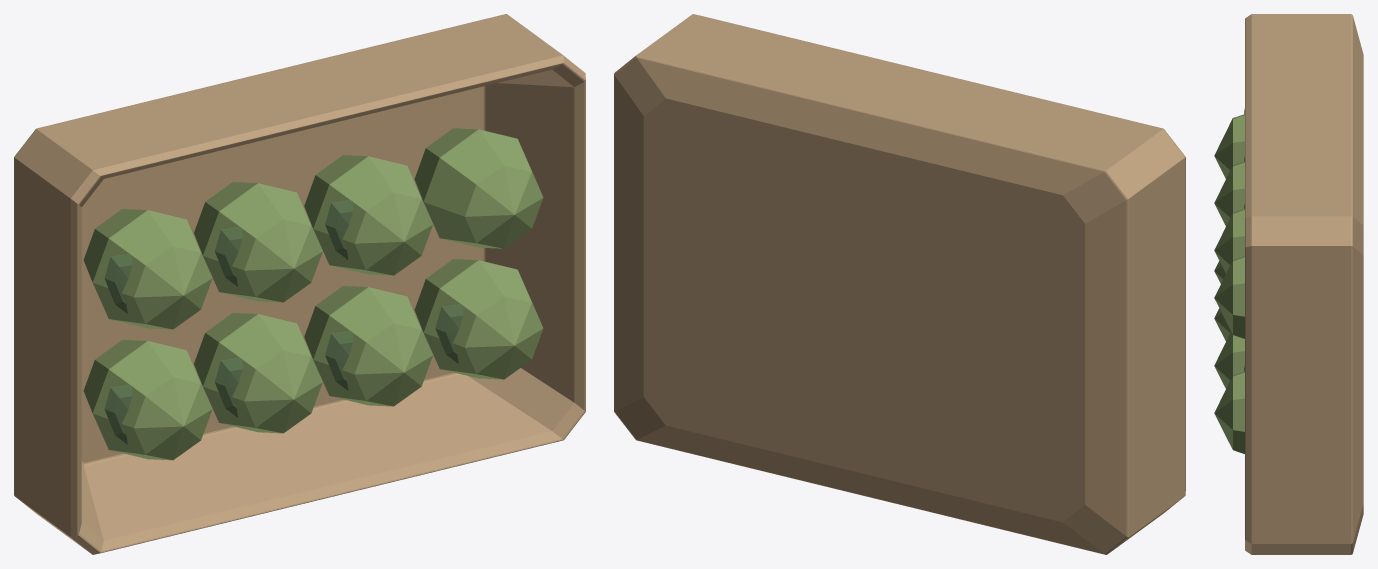
Rendered from brussels_sprouts.glb.
3 renders of one model, left to right at view 1: azimuth 30°, elevation 25°; view 2: azimuth 150°, elevation 25°; view 3: azimuth 270°, elevation 25°, orthographic. The views are drawn at different scales.
Visible parts, largest first — view 1: brussels_sprouts; view 2: brussels_sprouts; view 3: brussels_sprouts.
Part boxes in pixels (x1,y1,x2,y2): brussels_sprouts: [14, 14, 585, 554]; brussels_sprouts: [614, 14, 1185, 554]; brussels_sprouts: [1214, 14, 1363, 554].
Size of the model in its own units: 0.14 by 0.1 by 0.04.
